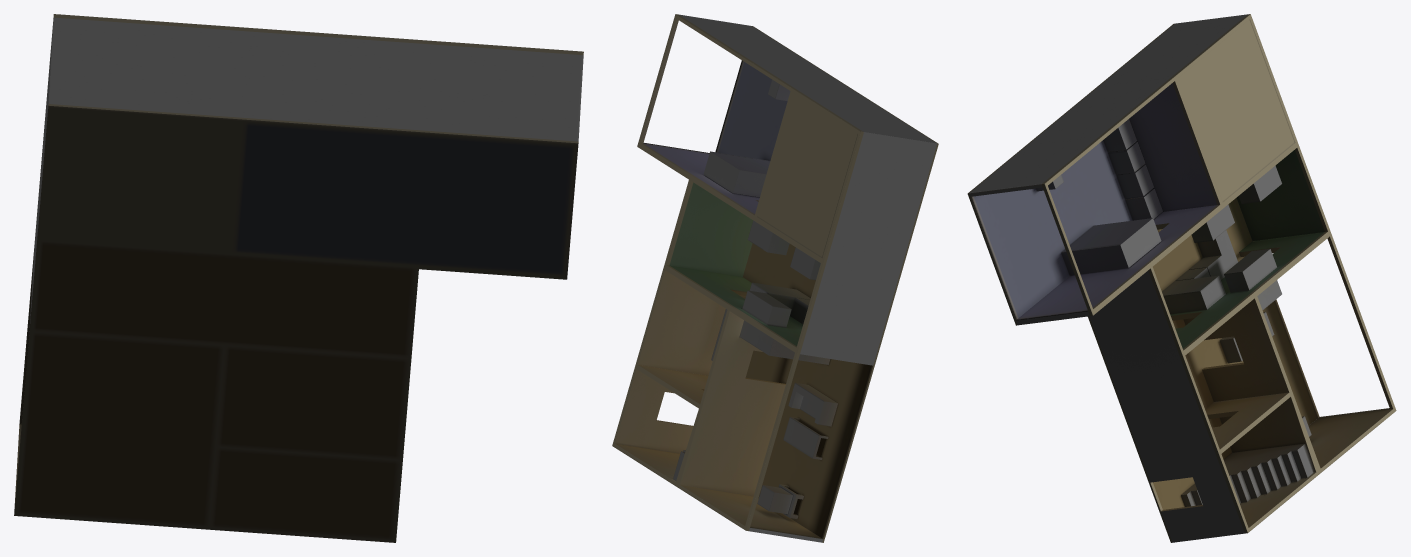
Rendered from third_cut.obj.
The picture shows the model from 3 angles, left to right: view 1: azimuth 30°, elevation 25°; view 2: azimuth 150°, elevation 25°; view 3: azimuth 270°, elevation 25°; orthographic projection. The views are drawn at different scales.
Visible parts, largest first — view 1: Cube; view 2: Cube; view 3: Cube.
Boxes of the visible parts, x1=… form: Cube: x1=14, y1=14, x2=583, y2=542; Cube: x1=612, y1=14, x2=938, y2=542; Cube: x1=967, y1=14, x2=1396, y2=542.
Size of the model in its own units: 1.01 by 1.15 by 1.06.
